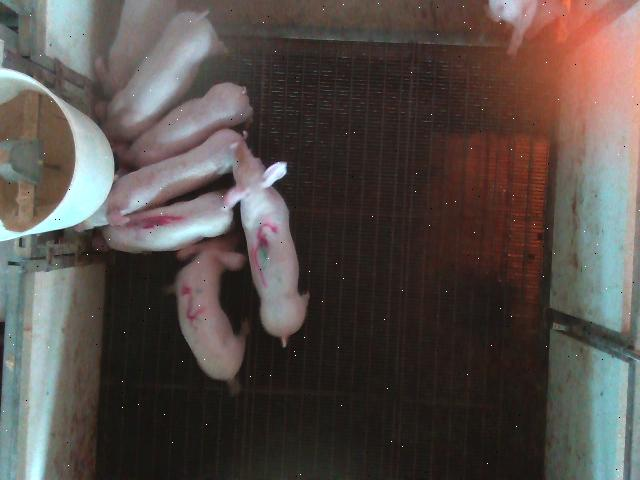pig-1: (92, 192, 232, 252)
pig-3: (225, 142, 309, 346)
pig-5: (172, 234, 249, 395)
